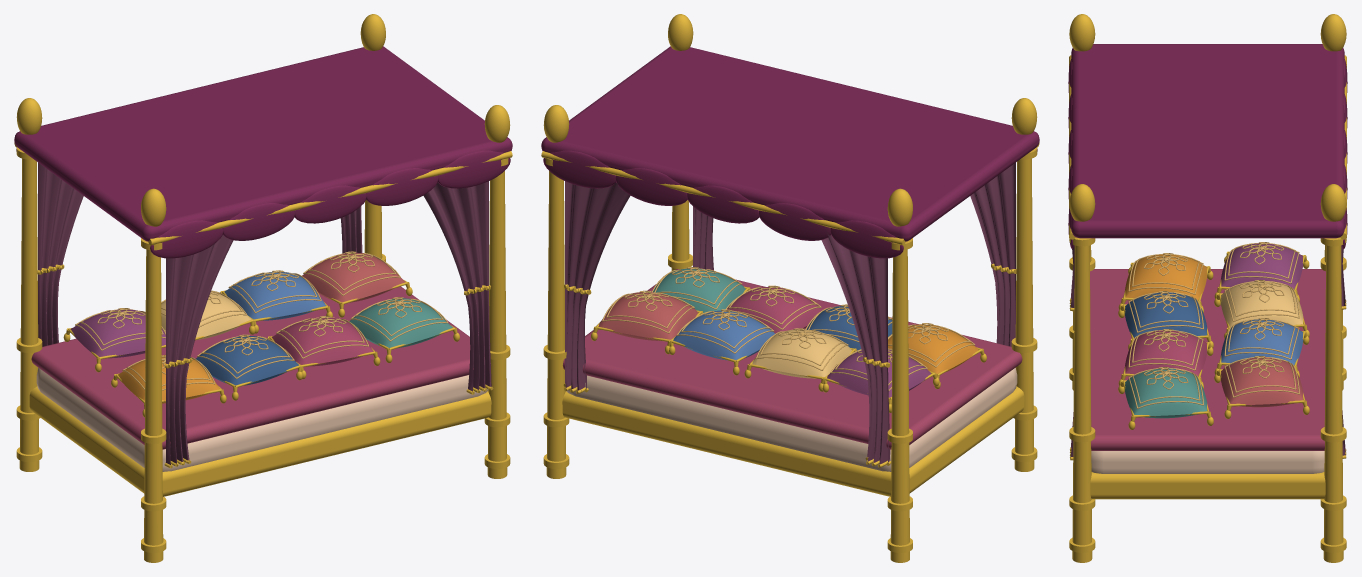
File: palace-bed.glb
3 views of the same model, side by side, from view 1: azimuth 30°, elevation 25°; view 2: azimuth 150°, elevation 25°; view 3: azimuth 270°, elevation 25° (orthographic).
Visible parts, largest first — view 1: palace-bed, tied-canopy-curtain (×4), pillow4, pillow8, pillow3, pillow7, pillow2, pillow5, pillow1, pillow6; view 2: palace-bed, tied-canopy-curtain (×4), pillow8, pillow6, pillow7, pillow3, pillow4, pillow1, pillow5, pillow2; view 3: palace-bed, pillow4, pillow8, pillow5, pillow1, pillow7, pillow3, pillow2, pillow6.
Boxes of the visible parts, <box> form: palace-bed: <box>14,14,512,562</box>; tied-canopy-curtain (×4): <box>37,162,493,468</box>; pillow4: <box>349,297,459,362</box>; pillow8: <box>302,251,412,317</box>; pillow3: <box>268,316,380,380</box>; pillow7: <box>220,270,332,334</box>; pillow2: <box>196,334,306,400</box>; pillow5: <box>63,308,165,372</box>; pillow1: <box>111,354,226,417</box>; pillow6: <box>161,290,258,340</box>; palace-bed: <box>541,14,1039,562</box>; tied-canopy-curtain (×4): <box>563,162,1016,467</box>; pillow8: <box>591,290,702,354</box>; pillow6: <box>744,328,856,392</box>; pillow7: <box>665,309,775,375</box>; pillow3: <box>725,285,822,333</box>; pillow4: <box>652,267,750,312</box>; pillow1: <box>888,323,986,388</box>; pillow5: <box>818,349,939,412</box>; pillow2: <box>805,304,892,350</box>; palace-bed: <box>1068,14,1347,562</box>; pillow4: <box>1118,367,1213,429</box>; pillow8: <box>1214,356,1309,418</box>; pillow5: <box>1214,242,1309,301</box>; pillow1: <box>1118,253,1213,312</box>; pillow7: <box>1214,318,1309,377</box>; pillow3: <box>1118,329,1213,388</box>; pillow2: <box>1118,291,1213,350</box>; pillow6: <box>1214,280,1309,338</box>.
Size of the model in its own units: 5.67 by 5.42 by 3.66.
